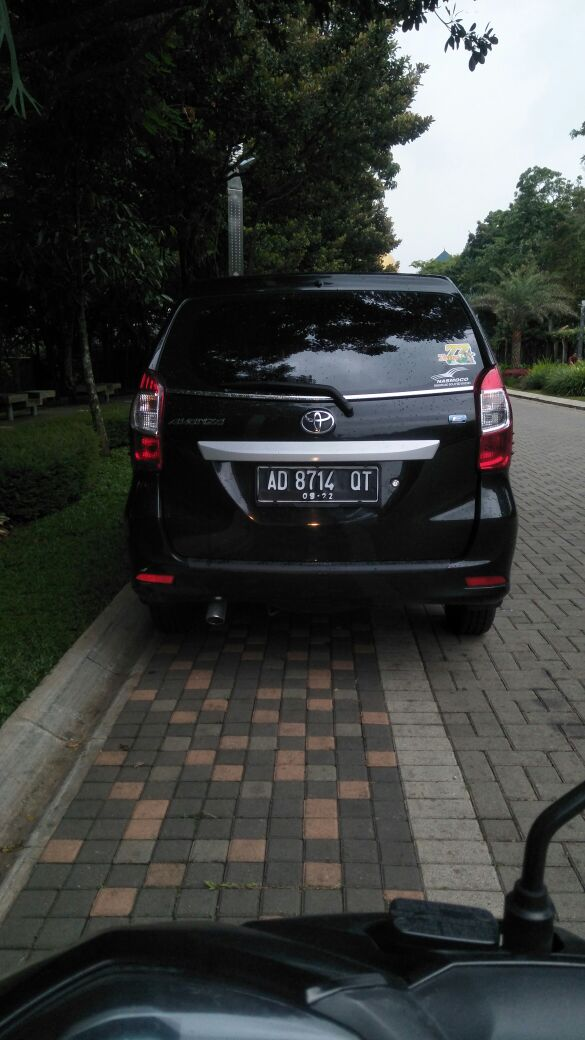plate: (256, 464, 380, 506)
